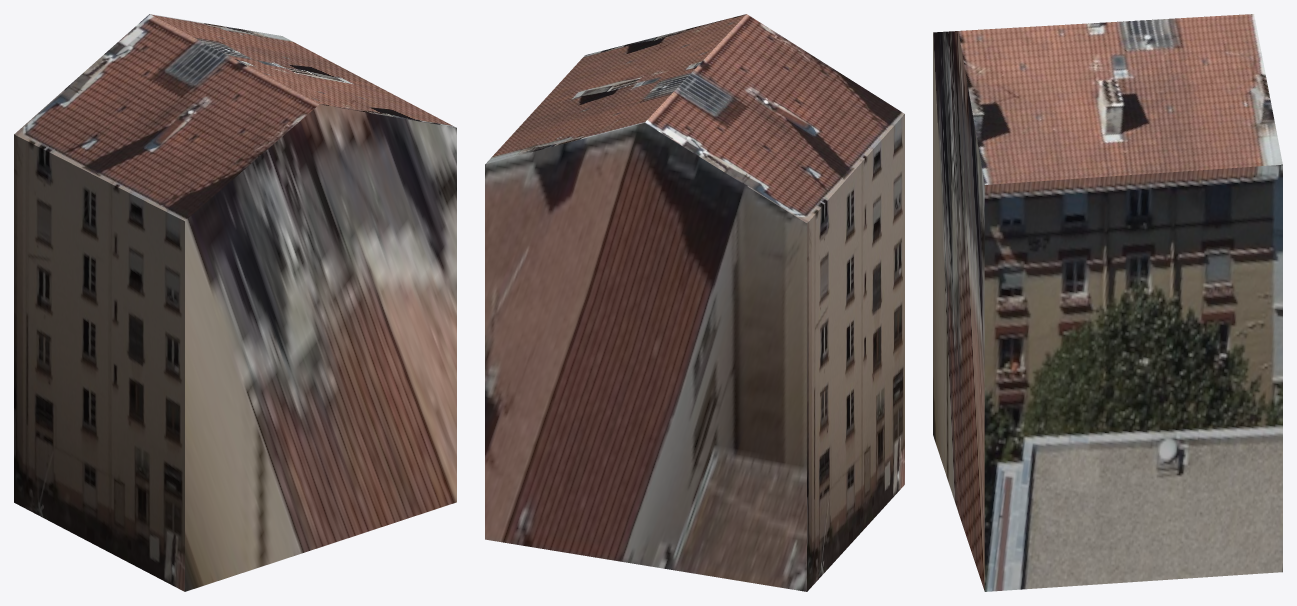
3 renders of one model, left to right at view 1: azimuth 30°, elevation 25°; view 2: azimuth 150°, elevation 25°; view 3: azimuth 270°, elevation 25°, orthographic. The views are drawn at different scales.
Visible parts, largest first — view 1: Z_UP; view 2: Z_UP; view 3: Z_UP.
Part boxes in pixels (left/top/right/bottom): Z_UP: left=14, top=14, right=456, bottom=591; Z_UP: left=485, top=14, right=904, bottom=591; Z_UP: left=933, top=14, right=1282, bottom=591.
Bounding box in the file's own units: 18.03 × 22.98 × 15.12.
2 materials, 1 textured.
